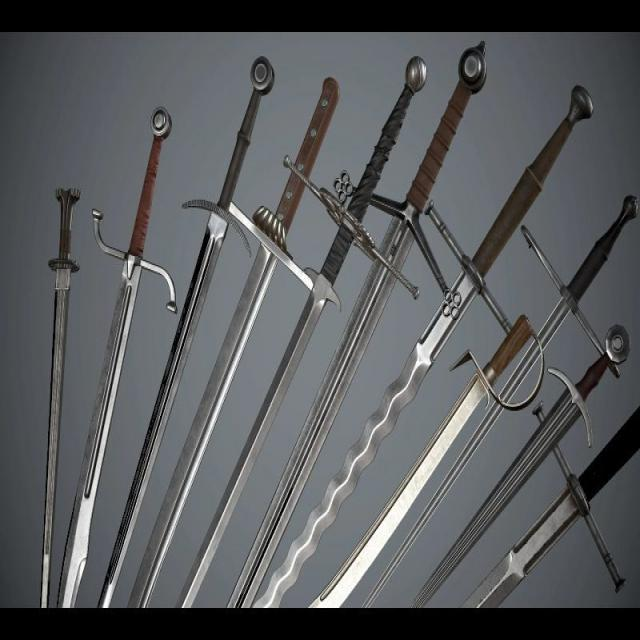sword: (252, 84, 595, 610), (228, 39, 491, 610), (174, 55, 429, 609), (362, 192, 640, 608), (129, 76, 343, 610), (98, 50, 276, 613), (308, 314, 547, 612), (406, 322, 634, 611), (54, 103, 183, 608), (455, 401, 640, 610), (38, 186, 86, 608)
